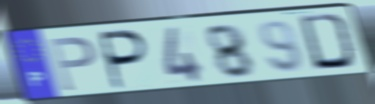4: (163, 25, 206, 85)
8: (206, 23, 255, 80)
9: (257, 19, 306, 75)
D: (297, 12, 360, 73)
P: (99, 28, 152, 92), (46, 35, 98, 93)
